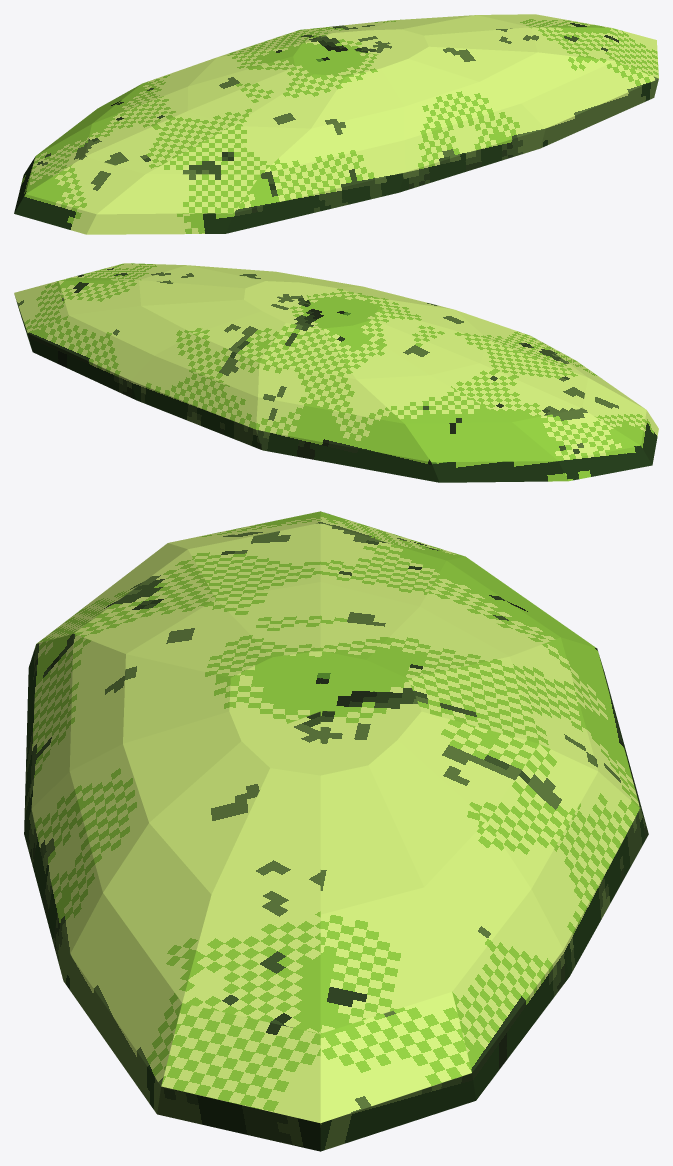
Rendered from SM_Dirt_SlimePuddleWall_01.glb.
3 views of the same model, one above another, from view 1: azimuth 30°, elevation 25°; view 2: azimuth 150°, elevation 25°; view 3: azimuth 270°, elevation 25° (orthographic). The views are drawn at different scales.
Visible parts, largest first — view 1: slime_shell; view 2: slime_shell; view 3: slime_shell.
Part boxes in pixels (<box>): slime_shell: <box>14,14,658,234</box>; slime_shell: <box>14,263,658,482</box>; slime_shell: <box>24,511,648,1151</box>.
Bounding box in the file's own units: 0.902 × 0.1192 × 0.3822.
Materials: 1 (1 with a texture image).
